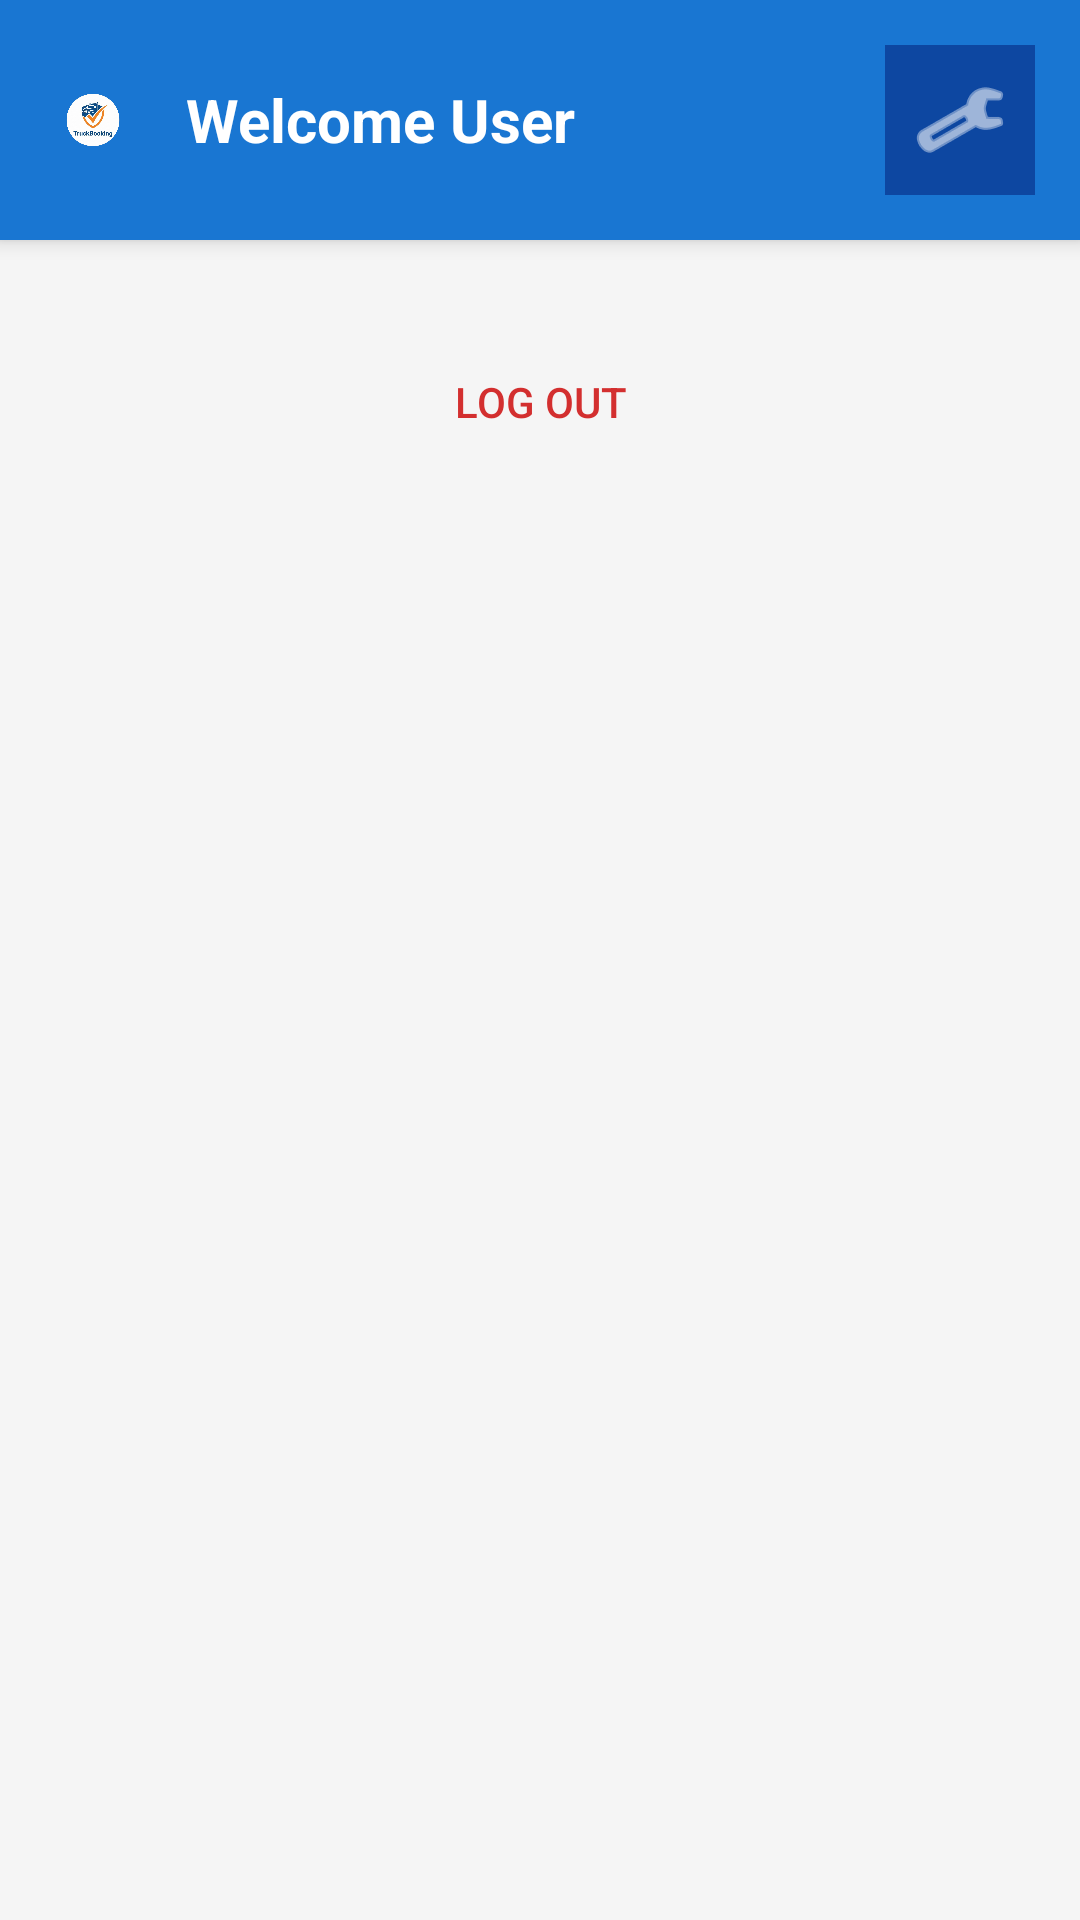

Named icons in this screenshot (1080 x 1920) and their bounding boxes, (x1, y1, x2, y2):
Settings: (885, 45, 1035, 195)
